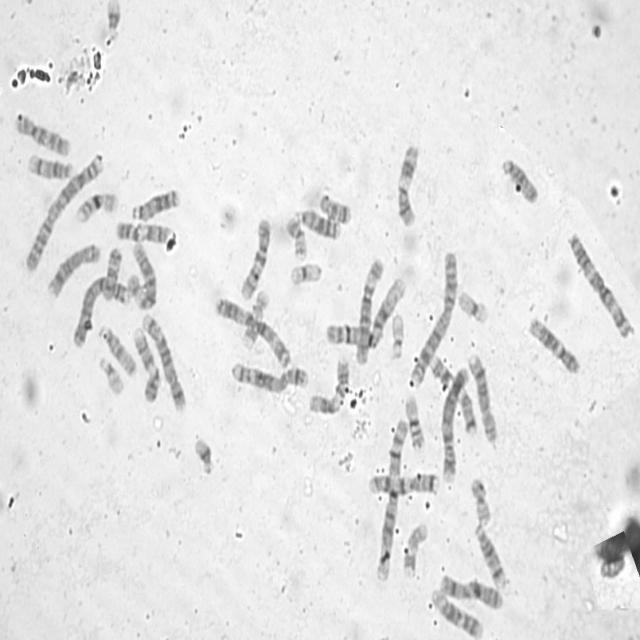A1: (324, 274, 404, 350), (375, 418, 408, 583)
A2: (24, 152, 104, 272), (410, 250, 458, 386)
A3: (566, 230, 636, 339), (214, 295, 291, 371)
B4: (72, 274, 129, 348), (440, 364, 470, 486)
B5: (141, 310, 186, 415), (229, 361, 309, 395)
C10: (240, 218, 271, 300), (16, 113, 71, 158)
C11: (307, 354, 350, 415), (395, 144, 423, 230)
C12: (528, 314, 583, 377), (428, 587, 484, 640)
C6: (356, 258, 384, 366), (126, 240, 158, 313)
C7: (430, 355, 480, 437), (368, 473, 441, 496)
C8: (48, 242, 102, 299), (466, 351, 498, 447)
C9: (132, 322, 160, 406), (116, 220, 172, 245)
D13: (294, 207, 343, 241), (131, 188, 179, 222)
D14: (474, 525, 506, 590), (26, 152, 74, 182)
D15: (98, 324, 137, 378), (500, 157, 540, 206)
E16: (74, 192, 119, 224), (404, 394, 427, 452)
E17: (240, 288, 269, 352), (402, 520, 430, 578)
E18: (102, 246, 122, 302), (319, 193, 352, 224)
F19: (458, 289, 490, 326), (289, 262, 323, 287)
F20: (468, 476, 491, 528), (284, 216, 307, 260)
G21: (194, 435, 215, 479), (105, 3, 121, 40)
G22: (98, 356, 125, 396), (390, 311, 406, 361)
X: (439, 572, 504, 612)
Y: (599, 556, 626, 580)
